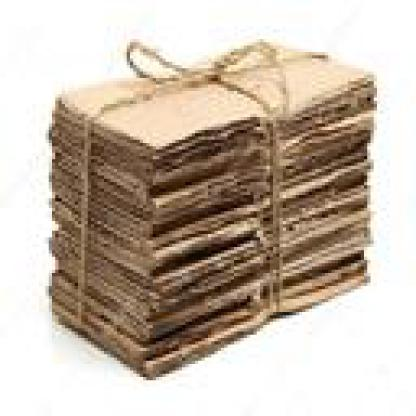CARDBOARD: (46, 39, 368, 374)
